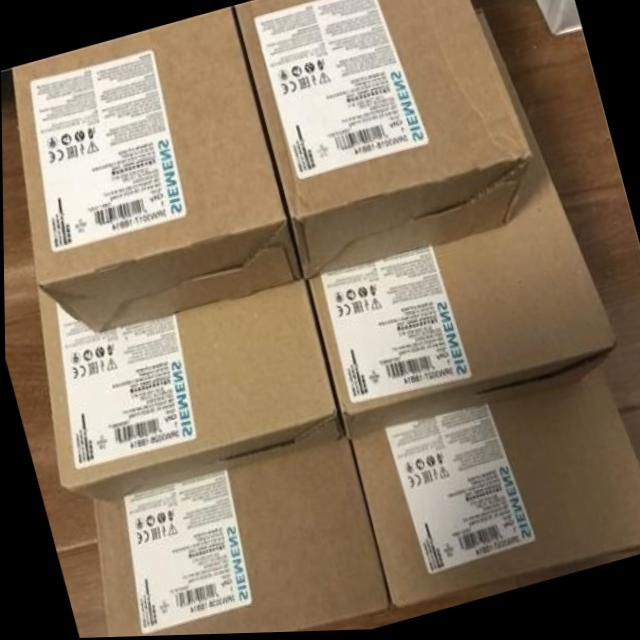box: (304, 10, 617, 441), (12, 12, 300, 335), (233, 0, 530, 279), (36, 278, 345, 505), (350, 369, 640, 610), (90, 441, 392, 638)
